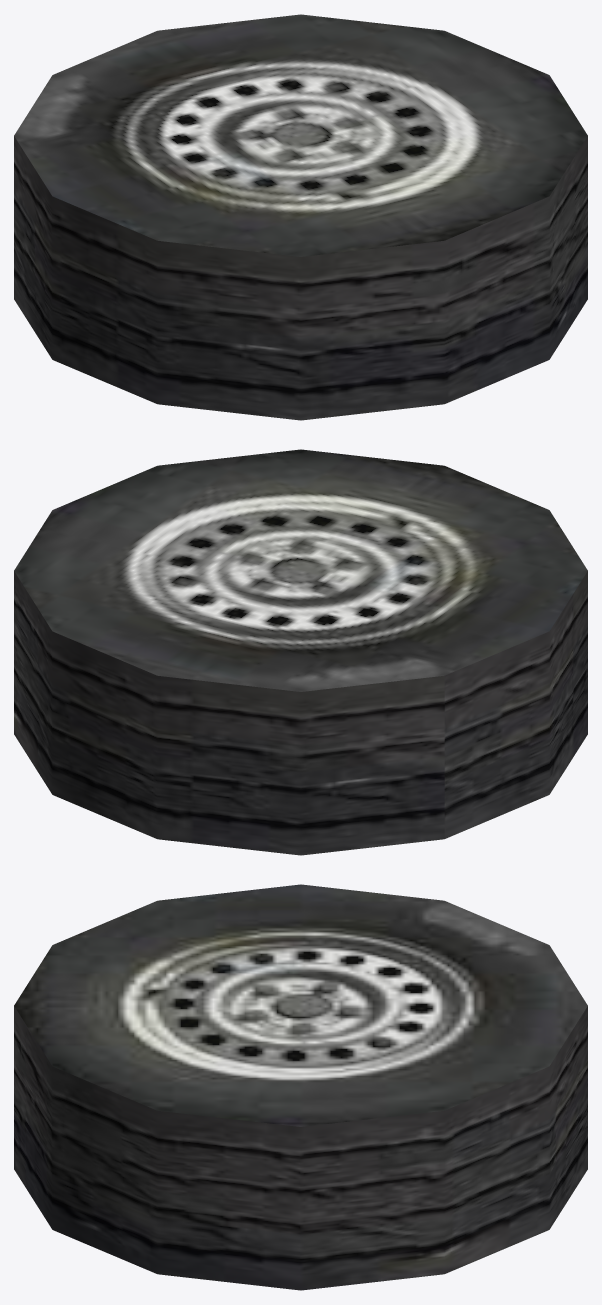
The model's file is tire.FBX.
3 views of the same model, one above another, from view 1: azimuth 30°, elevation 25°; view 2: azimuth 150°, elevation 25°; view 3: azimuth 270°, elevation 25° (orthographic).
Parts seen in each view (by area): view 1: tire; view 2: tire; view 3: tire.
Boxes of the visible parts, x1,y1,x2,y2 form: tire: [14, 14, 587, 420]; tire: [14, 449, 587, 855]; tire: [14, 884, 587, 1290].
Bounding box in the file's own units: 38.73 × 12.17 × 38.73.
